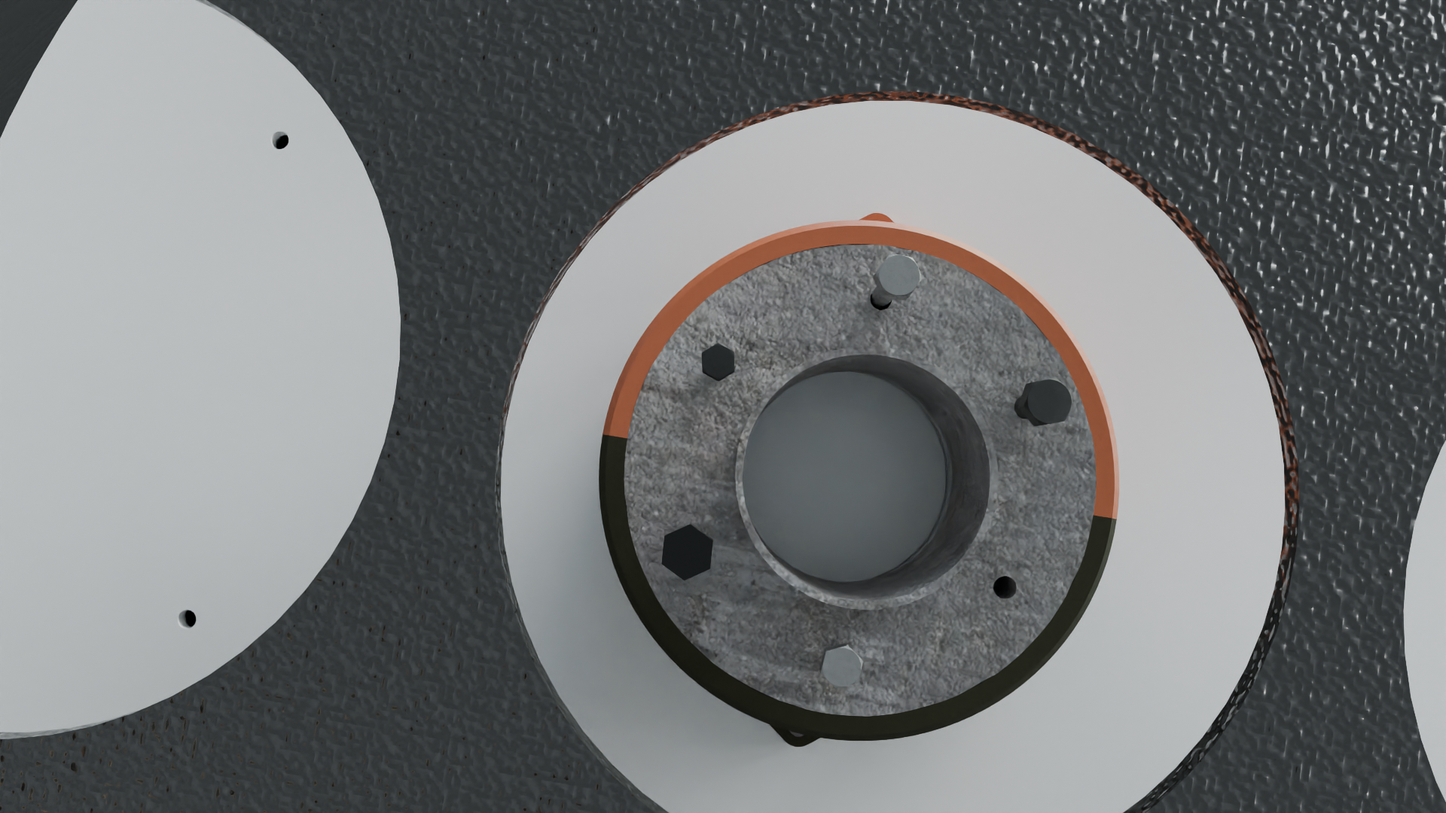bolt: (661, 524, 713, 580), (1023, 378, 1072, 425), (875, 254, 922, 297), (821, 645, 863, 689), (702, 343, 734, 380)
